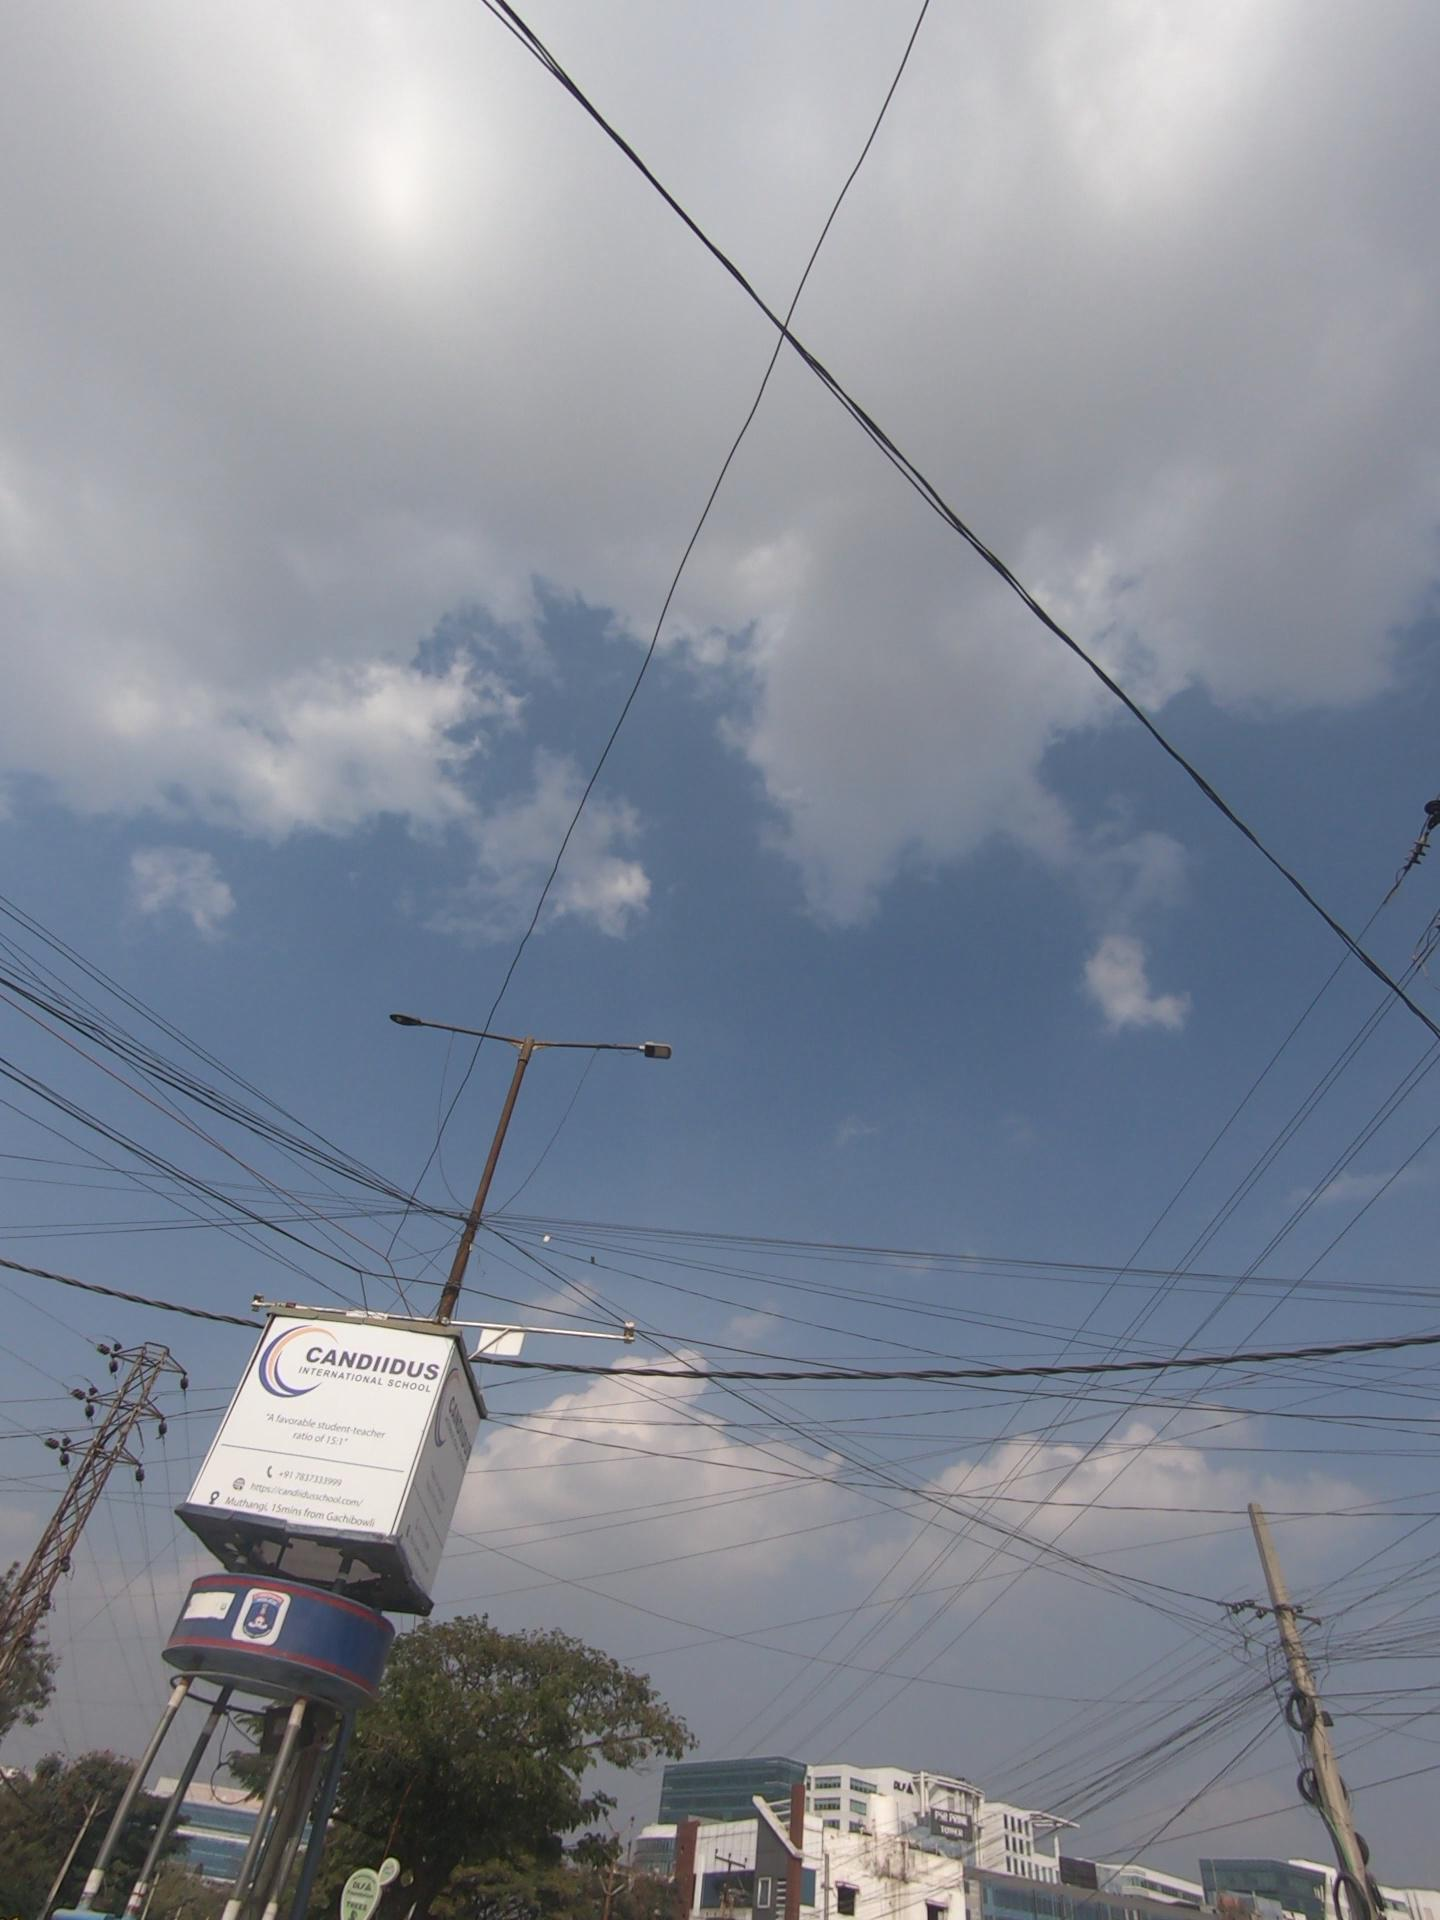off: (345, 931, 759, 1123)
